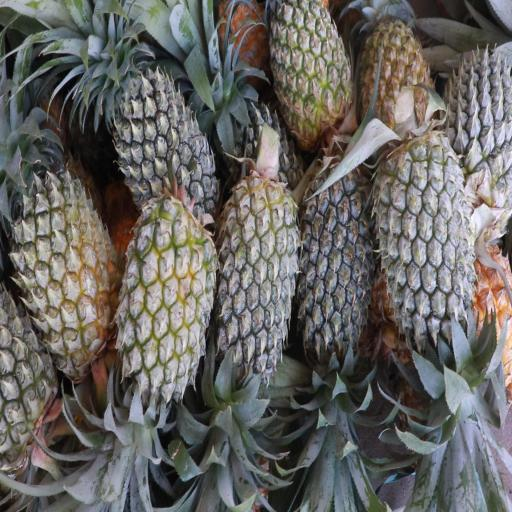------------------------------: (12, 165, 116, 370), (122, 190, 213, 403), (272, 0, 349, 141), (362, 3, 429, 142)
